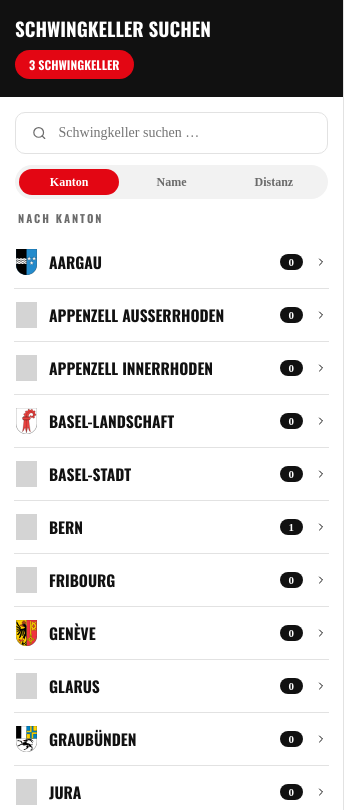
it: Sidebar › shows distance badges only when sorting by distance with a position
Expected: the text "km" is not shown
Click the radio button "Distanz" at (274, 182), box [224,169,324,195]
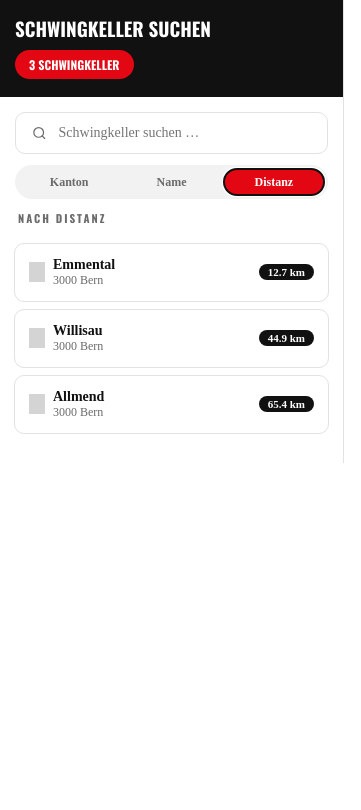
Expected: the text "12.7 km" is shown, [259,264,314,280]
